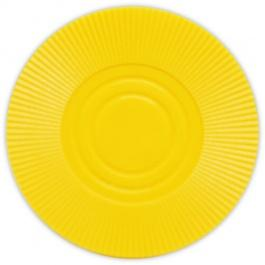chip-yellow: (6, 7, 258, 257)
